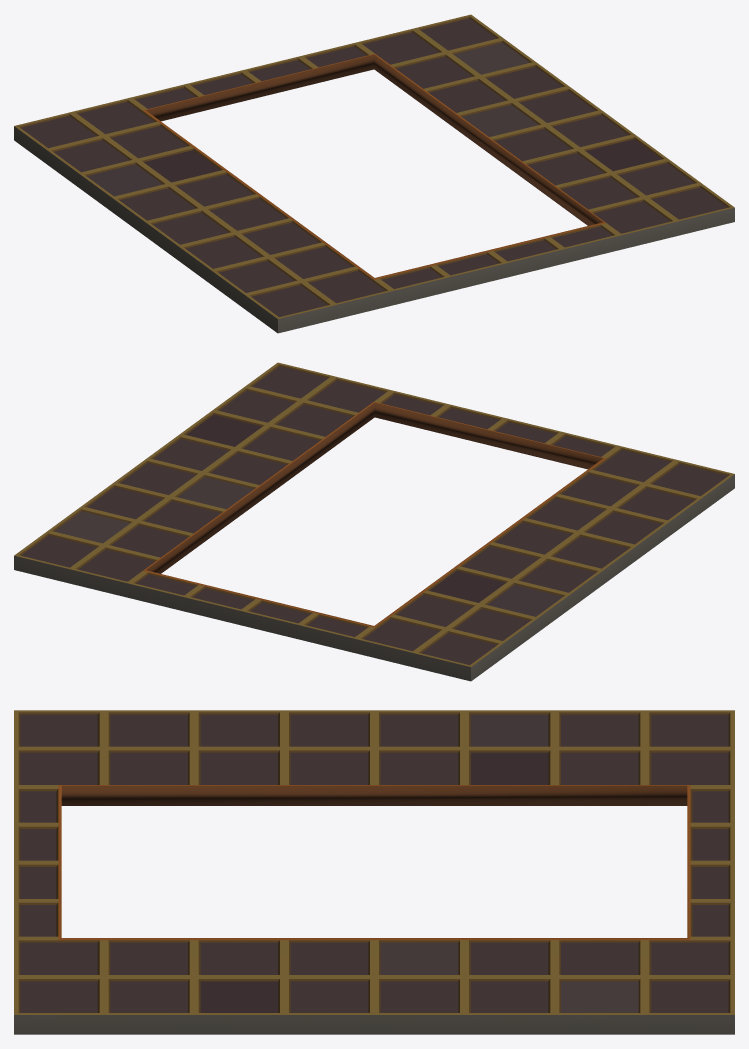
The model's file is TSP_House_Floor_Small_02A_Open_Center.fbx.
The picture shows the model from 3 angles, top to bottom: view 1: azimuth 30°, elevation 25°; view 2: azimuth 150°, elevation 25°; view 3: azimuth 270°, elevation 25°; orthographic projection. The views are drawn at different scales.
Parts seen in each view (by area): view 1: TSP_House_Floor_Small_02A_Open_Center; view 2: TSP_House_Floor_Small_02A_Open_Center; view 3: TSP_House_Floor_Small_02A_Open_Center.
Boxes of the visible parts, box(x1,y1,x2,y2) form: TSP_House_Floor_Small_02A_Open_Center: box(14, 14, 734, 333); TSP_House_Floor_Small_02A_Open_Center: box(14, 362, 734, 681); TSP_House_Floor_Small_02A_Open_Center: box(14, 710, 734, 1034).
Bounding box in the file's own units: 4 × 0.125 × 4.
